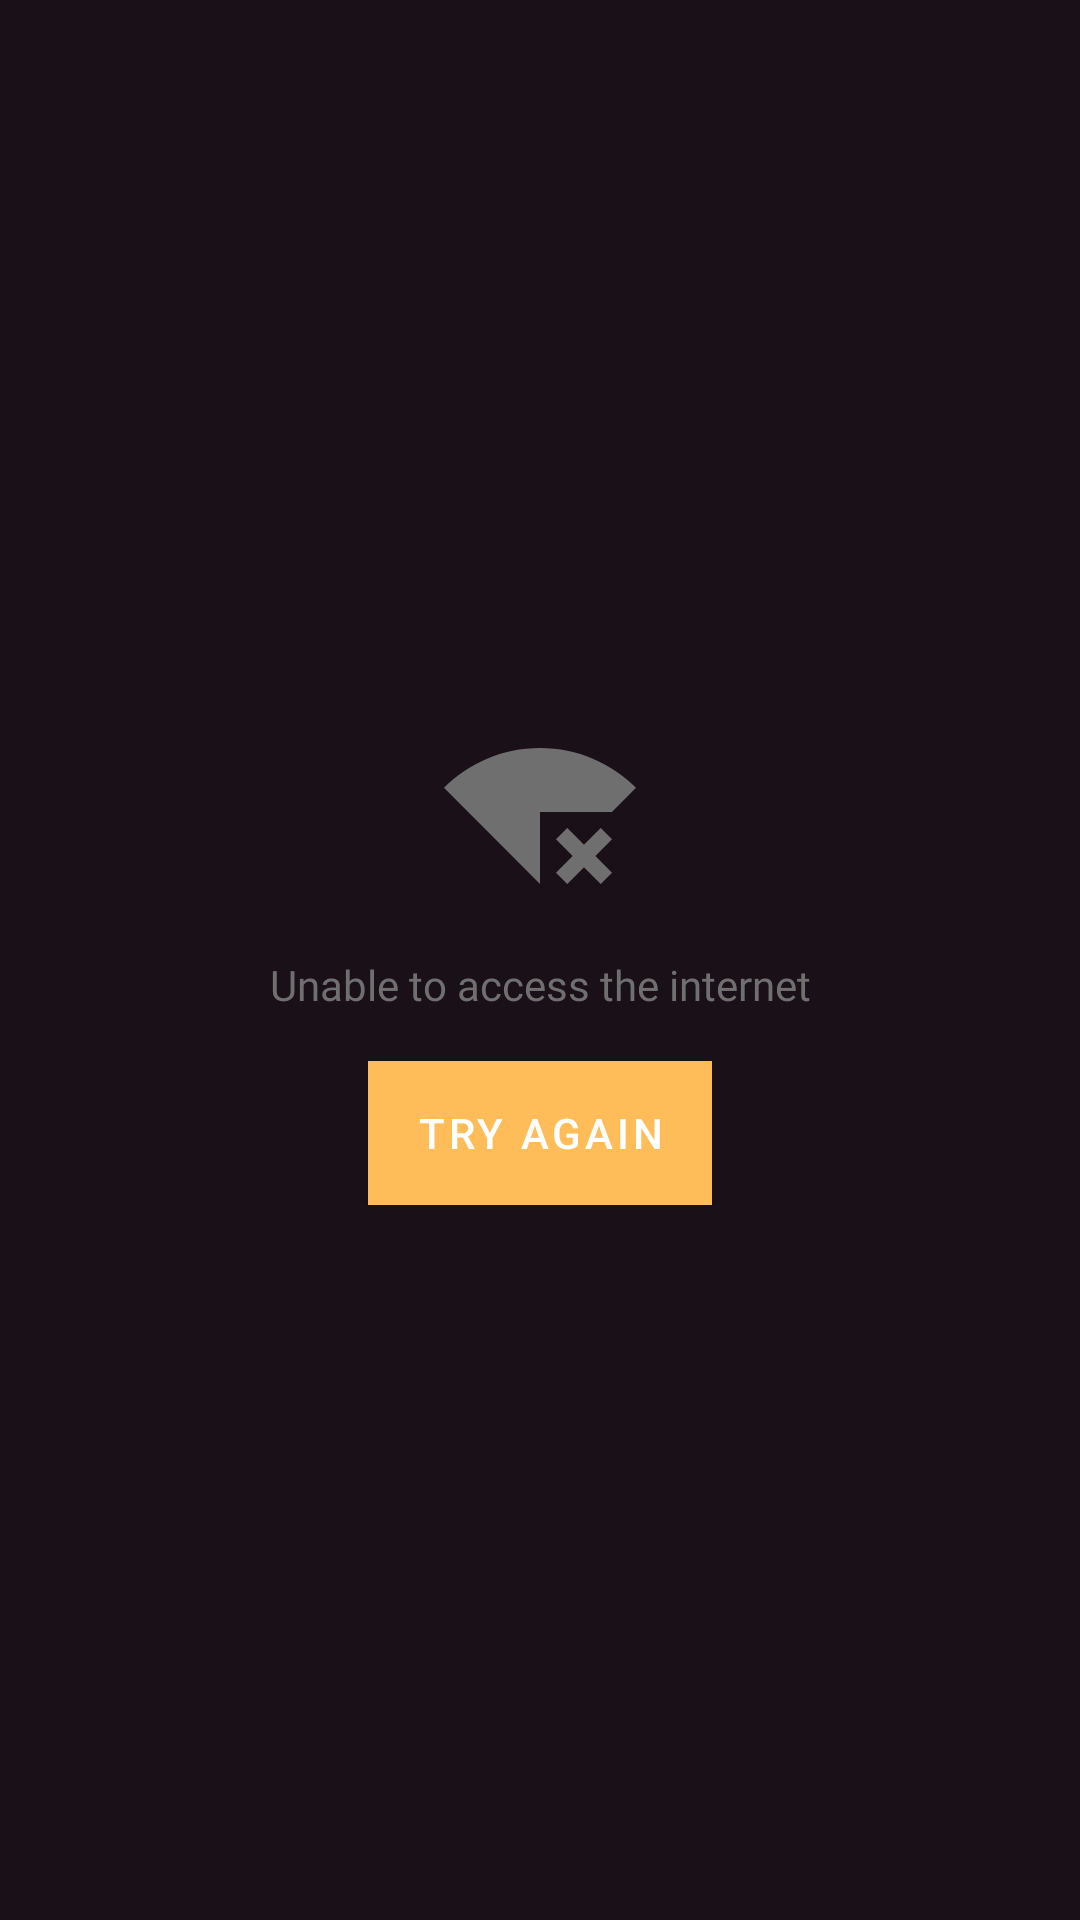

Icons on this 1080w x 1920h Android screen, each with its box as (x1, y1, x2, y2):
wifi connected no internet: (444, 748, 636, 884)
